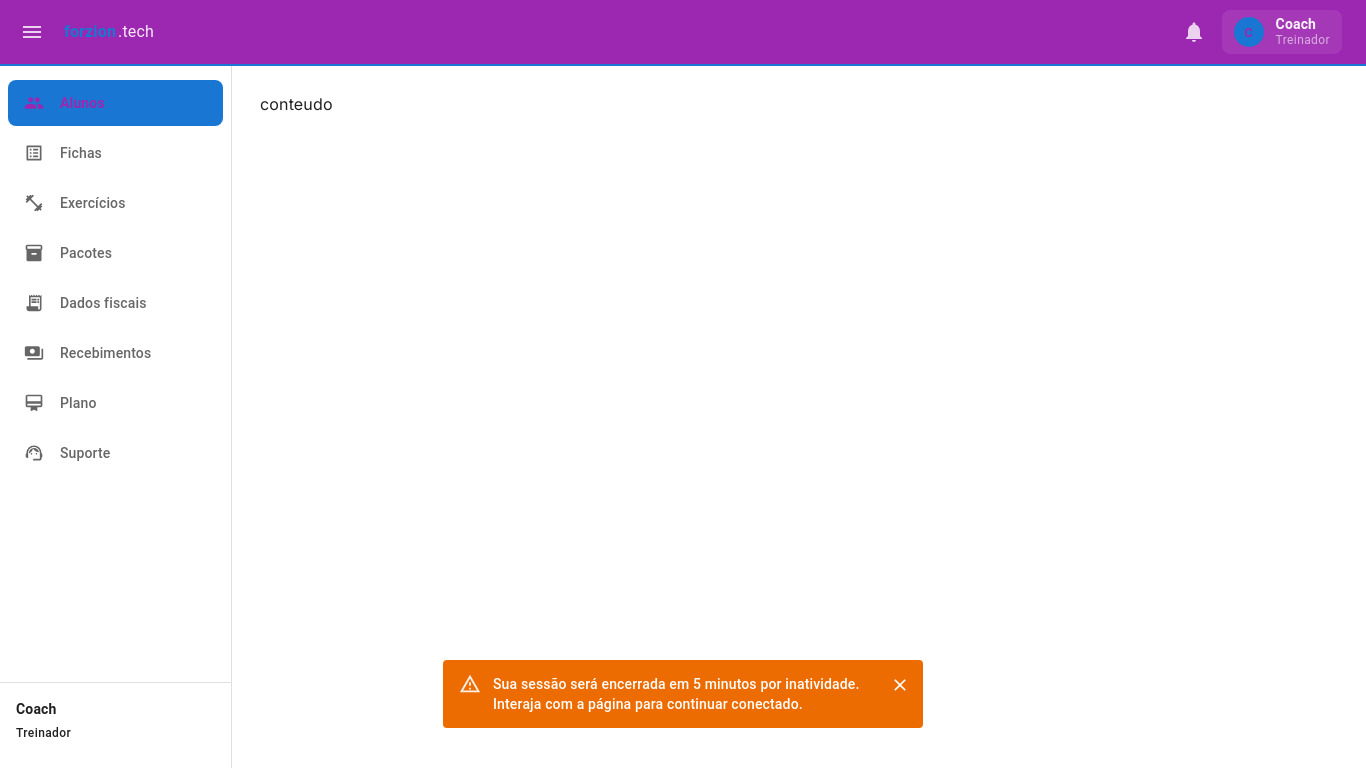
Test: AppLayout — toasts e sessão › aviso de inatividade aparece e timeout faz logout
expect the text "será encerrada em 5 minutos por inatividade" is shown: met, box [493,676,860,712]
Click the button named "Close". click: (900, 685)
box: [885,670,915,700]
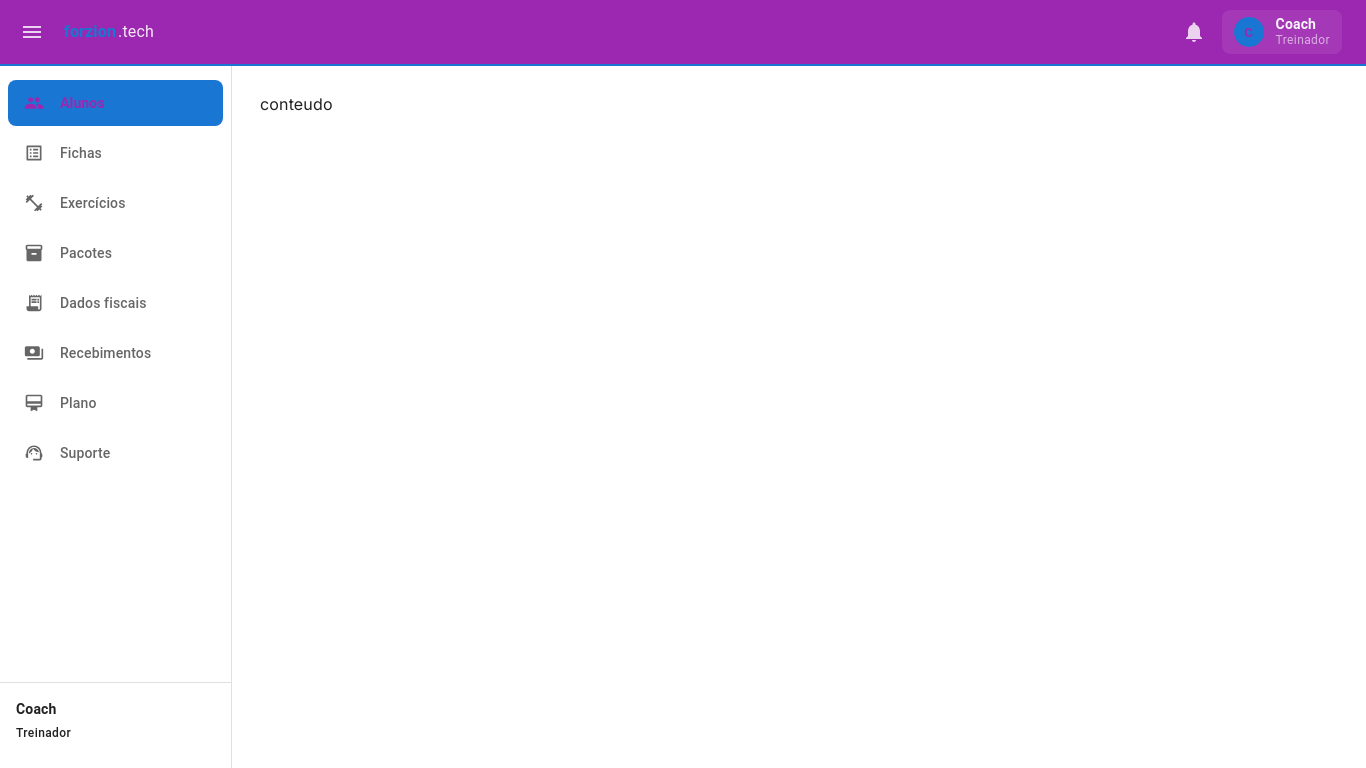
expect the text "será encerrada em 5 minutos por inatividade" is gone: met
